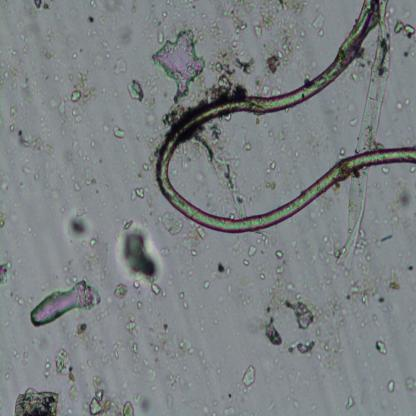Air bubble: (152, 30, 206, 103), (29, 279, 101, 328)
Background material: (121, 216, 161, 284), (315, 294, 348, 375), (346, 269, 400, 312), (262, 25, 304, 80), (252, 1, 308, 38), (208, 57, 247, 101), (66, 70, 97, 124), (145, 326, 194, 360), (74, 246, 114, 286), (39, 155, 69, 205), (258, 266, 286, 314), (12, 386, 58, 415), (224, 4, 248, 58), (15, 55, 40, 105), (88, 372, 115, 416), (283, 298, 316, 332), (15, 130, 56, 157), (66, 206, 95, 242), (124, 314, 139, 374), (392, 178, 416, 214), (232, 267, 256, 303), (90, 0, 124, 23), (316, 233, 338, 268), (69, 324, 96, 351), (140, 110, 159, 148), (57, 347, 75, 384), (264, 314, 284, 346), (192, 344, 211, 376), (160, 212, 184, 236), (116, 23, 137, 50), (349, 58, 371, 83), (357, 229, 371, 267), (392, 18, 416, 39), (286, 340, 317, 356), (126, 76, 144, 103), (32, 329, 53, 352), (245, 311, 264, 336), (101, 339, 120, 364), (209, 262, 233, 280), (366, 203, 384, 226), (134, 8, 154, 28), (311, 12, 326, 38), (141, 185, 156, 211), (55, 99, 69, 126), (233, 57, 255, 74), (251, 86, 281, 98), (185, 226, 198, 253), (141, 358, 155, 383), (0, 258, 12, 287), (42, 32, 54, 60), (113, 56, 129, 77), (378, 233, 398, 249), (241, 366, 256, 387), (116, 398, 134, 415), (134, 393, 150, 412), (72, 140, 87, 160), (167, 374, 187, 389), (61, 265, 76, 284), (114, 280, 128, 300), (19, 34, 30, 57), (290, 239, 301, 262), (43, 353, 52, 381), (0, 61, 10, 85), (19, 226, 37, 239), (263, 160, 278, 175), (150, 282, 166, 296), (112, 125, 126, 141), (84, 169, 97, 186), (344, 392, 355, 412), (404, 375, 416, 393), (129, 187, 144, 201), (374, 341, 388, 356), (256, 235, 271, 249), (195, 226, 208, 242), (101, 43, 112, 61), (396, 96, 410, 110), (178, 292, 188, 310), (0, 176, 10, 193), (35, 0, 50, 11), (196, 317, 207, 332), (164, 392, 173, 410), (158, 246, 170, 259), (20, 163, 32, 176), (348, 114, 359, 128), (265, 396, 276, 410), (247, 244, 258, 258), (9, 106, 19, 121), (55, 73, 65, 87), (264, 182, 278, 192), (243, 139, 252, 154), (0, 370, 12, 381), (379, 164, 391, 175), (284, 282, 295, 294), (386, 380, 396, 393), (71, 181, 81, 193), (274, 248, 284, 260), (157, 30, 165, 44), (0, 211, 7, 227), (99, 127, 111, 136), (275, 265, 285, 275), (16, 295, 25, 306), (13, 347, 20, 361), (337, 147, 345, 159), (89, 238, 97, 249), (142, 162, 150, 172), (133, 280, 141, 290), (86, 16, 96, 24), (203, 279, 210, 290), (292, 400, 300, 409), (4, 319, 12, 328), (242, 258, 250, 266), (227, 282, 232, 294), (10, 125, 16, 135), (259, 271, 264, 282), (137, 300, 142, 310), (410, 166, 416, 174), (72, 52, 78, 60), (191, 250, 196, 259), (91, 140, 95, 148)
Cellulose filter fibre: (339, 0, 391, 270), (197, 130, 246, 220)
Microfibre: (156, 0, 416, 232)
